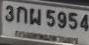letters: (16, 6, 28, 24), (29, 8, 41, 26), (5, 5, 14, 22), (69, 13, 78, 30), (80, 14, 89, 31), (47, 10, 55, 27), (58, 11, 66, 28)
province: (15, 31, 79, 44)
